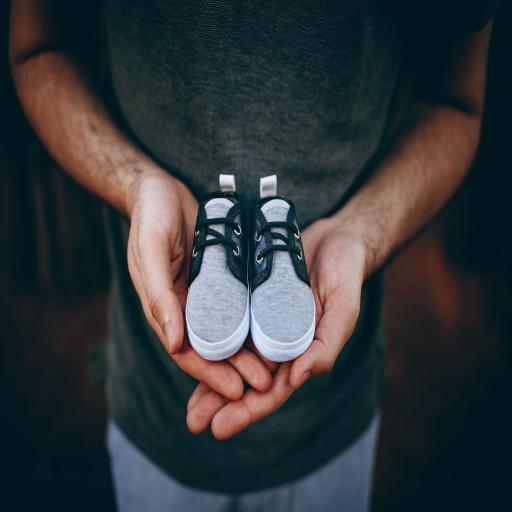shoe: (248, 176, 315, 361), (186, 175, 250, 360)
